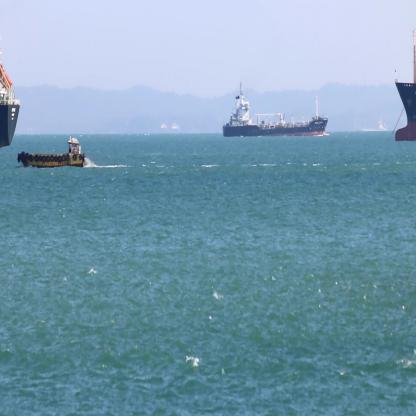Container Ship: (223, 78, 328, 137), (395, 28, 415, 143), (0, 62, 20, 148)
